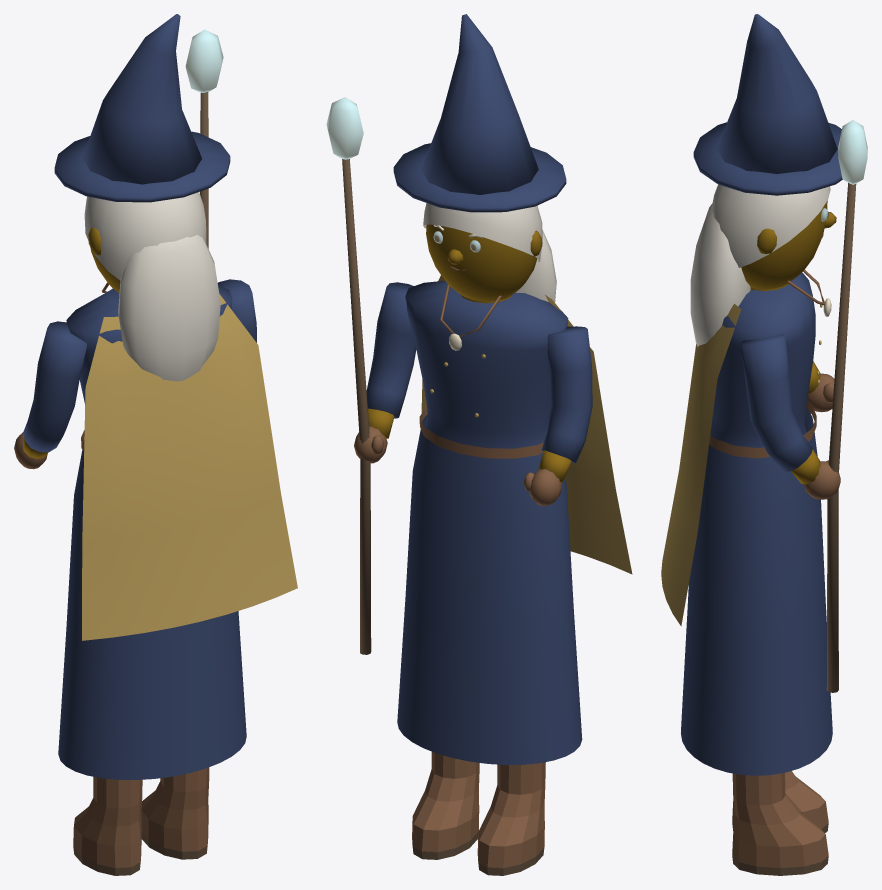
The model's file is SM_NPC_HIELO.glb.
3 renders of one model, left to right at view 1: azimuth 30°, elevation 25°; view 2: azimuth 150°, elevation 25°; view 3: azimuth 270°, elevation 25°, orthographic. The views are drawn at different scales.
Parts seen in each view (by area): view 1: SM_NPC_HIELO_BODY, SM_NPC_HIELO_HAIR, SM_NPC_HIELO_ARM_L, SM_NPC_HIELO_LEG_L, SM_NPC_HIELO_LEG_R, SM_NPC_HIELO_ARM_R, SM_NPC_HIELO_HEAD; view 2: SM_NPC_HIELO_BODY, SM_NPC_HIELO_HAIR, SM_NPC_HIELO_ARM_R, SM_NPC_HIELO_ARM_L, SM_NPC_HIELO_LEG_L, SM_NPC_HIELO_LEG_R, SM_NPC_HIELO_HEAD; view 3: SM_NPC_HIELO_BODY, SM_NPC_HIELO_HAIR, SM_NPC_HIELO_ARM_R, SM_NPC_HIELO_LEG_R, SM_NPC_HIELO_HEAD, SM_NPC_HIELO_LEG_L, SM_NPC_HIELO_ARM_L.
Part boxes in pixels (bbox=[...]): SM_NPC_HIELO_BODY: bbox=[58, 282, 297, 779]; SM_NPC_HIELO_HAIR: bbox=[54, 14, 230, 381]; SM_NPC_HIELO_ARM_L: bbox=[14, 321, 86, 469]; SM_NPC_HIELO_LEG_L: bbox=[73, 776, 142, 875]; SM_NPC_HIELO_LEG_R: bbox=[141, 767, 209, 859]; SM_NPC_HIELO_ARM_R: bbox=[185, 29, 256, 342]; SM_NPC_HIELO_HEAD: bbox=[88, 212, 205, 293]; SM_NPC_HIELO_BODY: bbox=[397, 275, 632, 764]; SM_NPC_HIELO_HAIR: bbox=[393, 14, 566, 302]; SM_NPC_HIELO_ARM_R: bbox=[326, 97, 416, 654]; SM_NPC_HIELO_ARM_L: bbox=[523, 326, 592, 506]; SM_NPC_HIELO_LEG_L: bbox=[477, 762, 545, 875]; SM_NPC_HIELO_LEG_R: bbox=[412, 751, 479, 859]; SM_NPC_HIELO_HEAD: bbox=[426, 224, 542, 301]; SM_NPC_HIELO_BODY: bbox=[661, 269, 832, 775]; SM_NPC_HIELO_HAIR: bbox=[690, 14, 842, 346]; SM_NPC_HIELO_ARM_R: bbox=[740, 120, 867, 692]; SM_NPC_HIELO_LEG_R: bbox=[732, 773, 828, 875]; SM_NPC_HIELO_HEAD: bbox=[741, 200, 836, 289]; SM_NPC_HIELO_LEG_L: bbox=[732, 771, 828, 832]; SM_NPC_HIELO_ARM_L: bbox=[807, 361, 834, 412].
Size of the model in its own units: 0.5823 by 2.04 by 0.4531.
